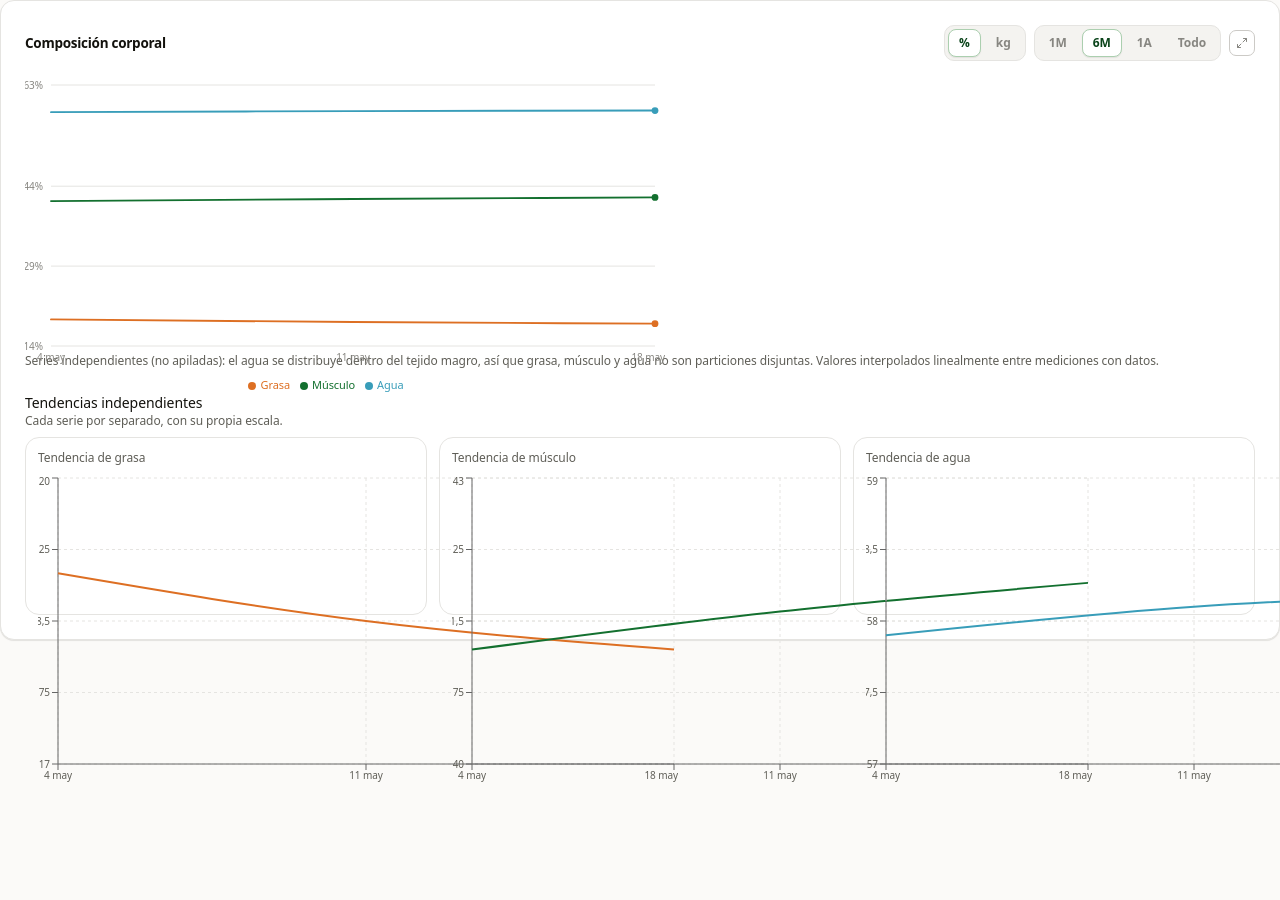
Scenario: CompositionChart › opens the same chart in the expanded sheet
The image size is (1280, 900).
Click the button named "Ampliar gráfica" at (1242, 43), box [1229,30,1255,56]
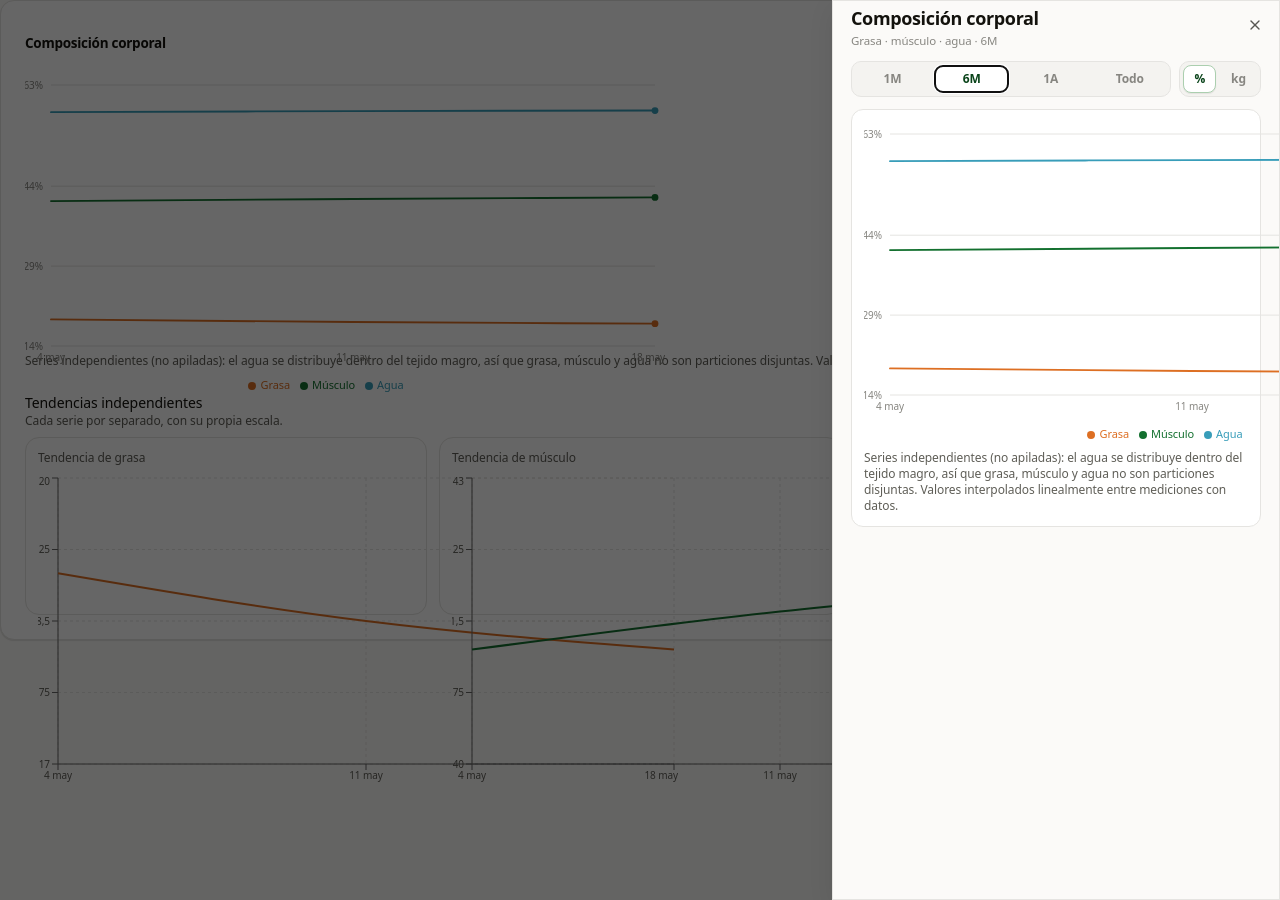
Now the dialog shows "Grasa · músculo · agua · 6M", box [851,33,997,48]
